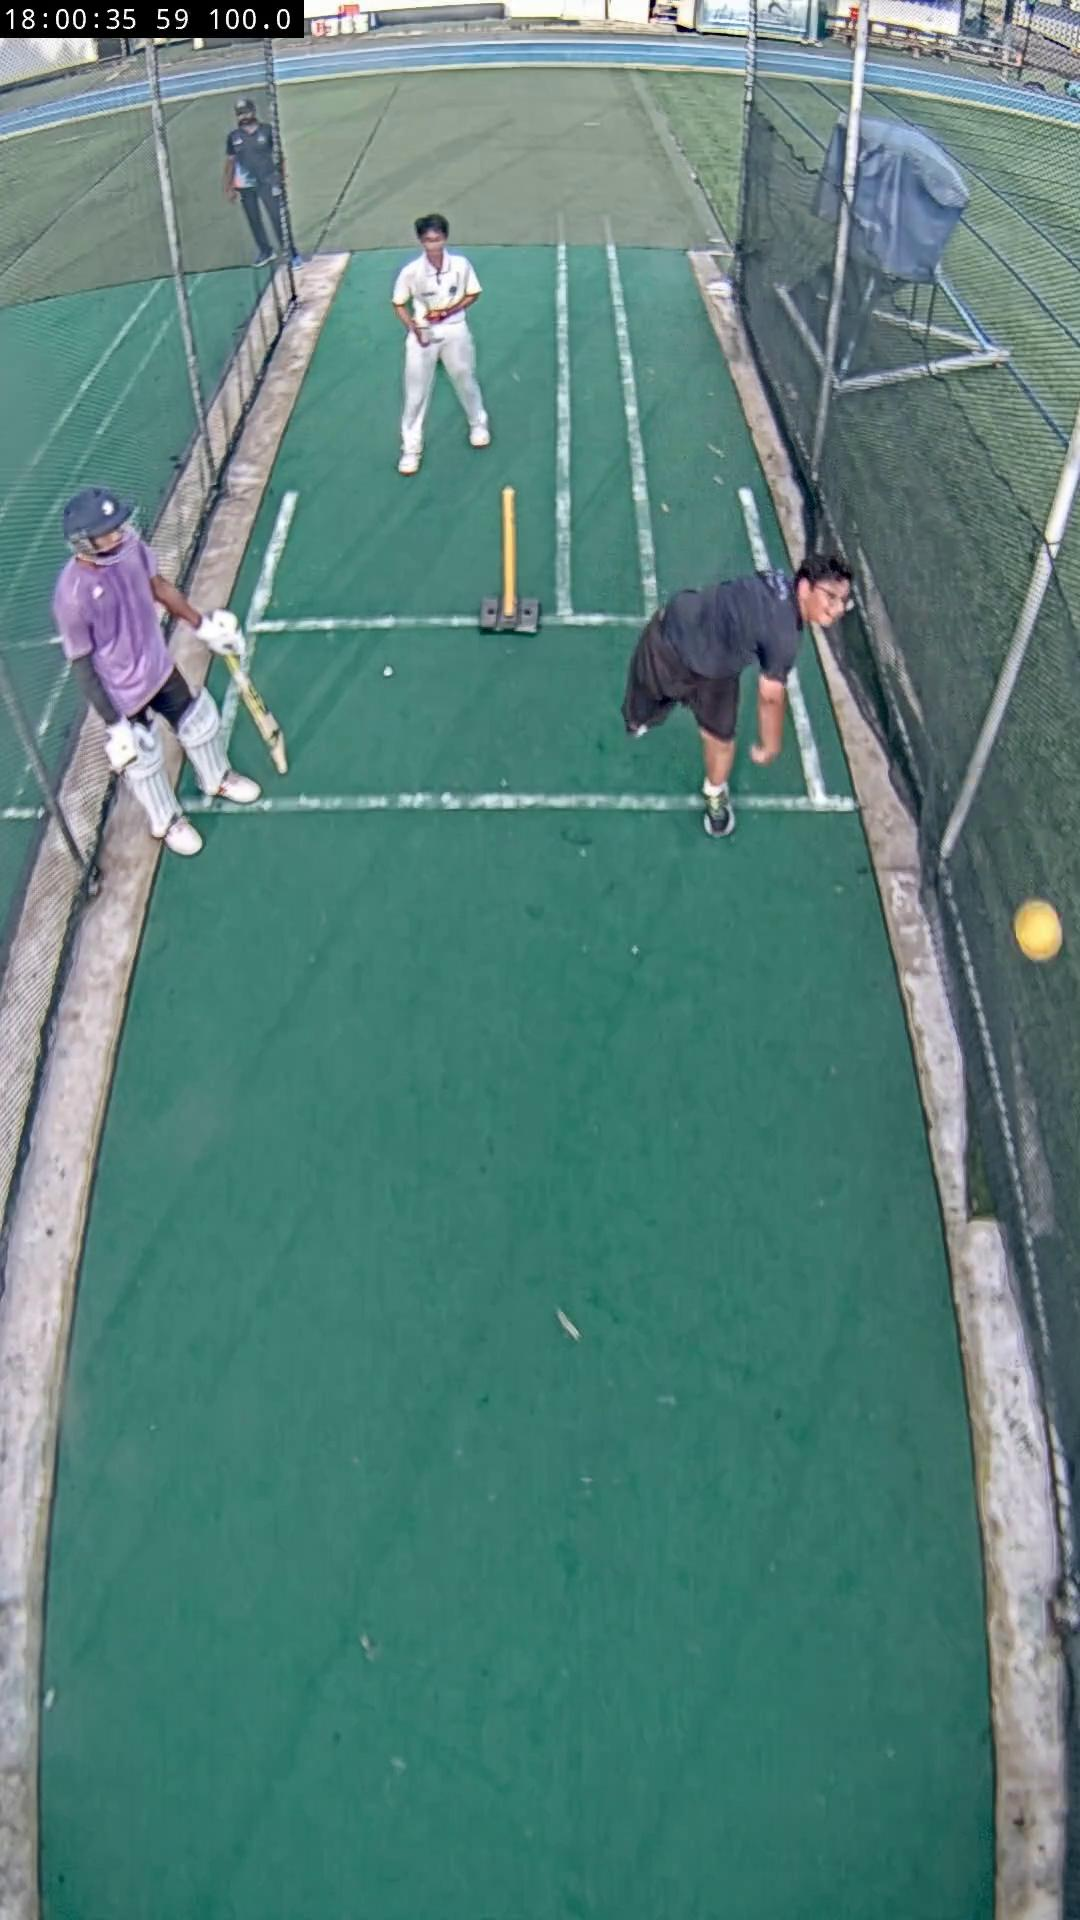ball: (1013, 897, 1062, 960)
stumps: (480, 488, 541, 634)
